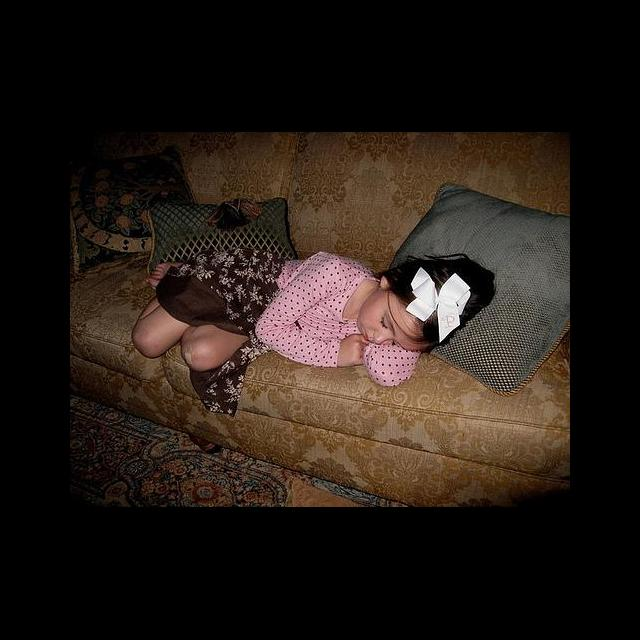NO-Hardhat: (388, 256, 472, 349)
NO-Mask: (356, 306, 377, 343)
NO-Safety Vest: (280, 255, 360, 341)
Person: (131, 244, 494, 386)
